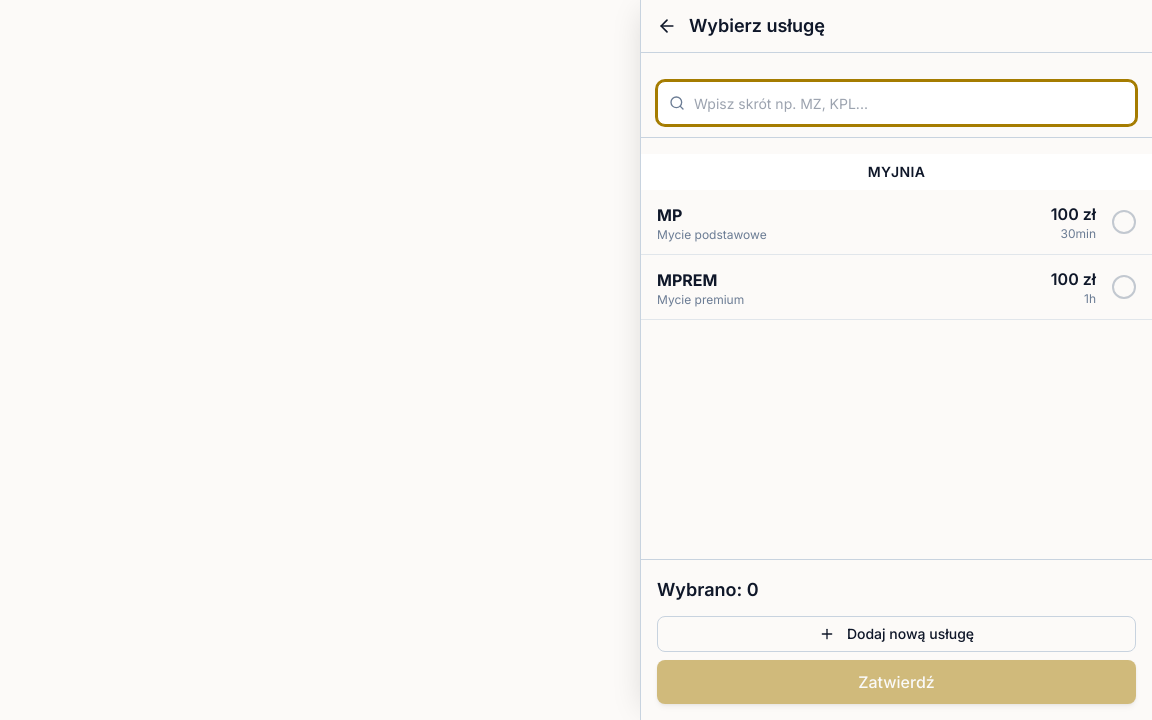
Test: ServiceSelectionDrawer › Search filtering in category list › filters services in category list by full search phrase
Check: the text "Mycie podstawowe" is shown, box [657,226,767,242]
Type "premium" into the search field with placeholder "Wpisz skrót np. MZ, KPL..." at x=896, y=103, box [657,81,1136,125]
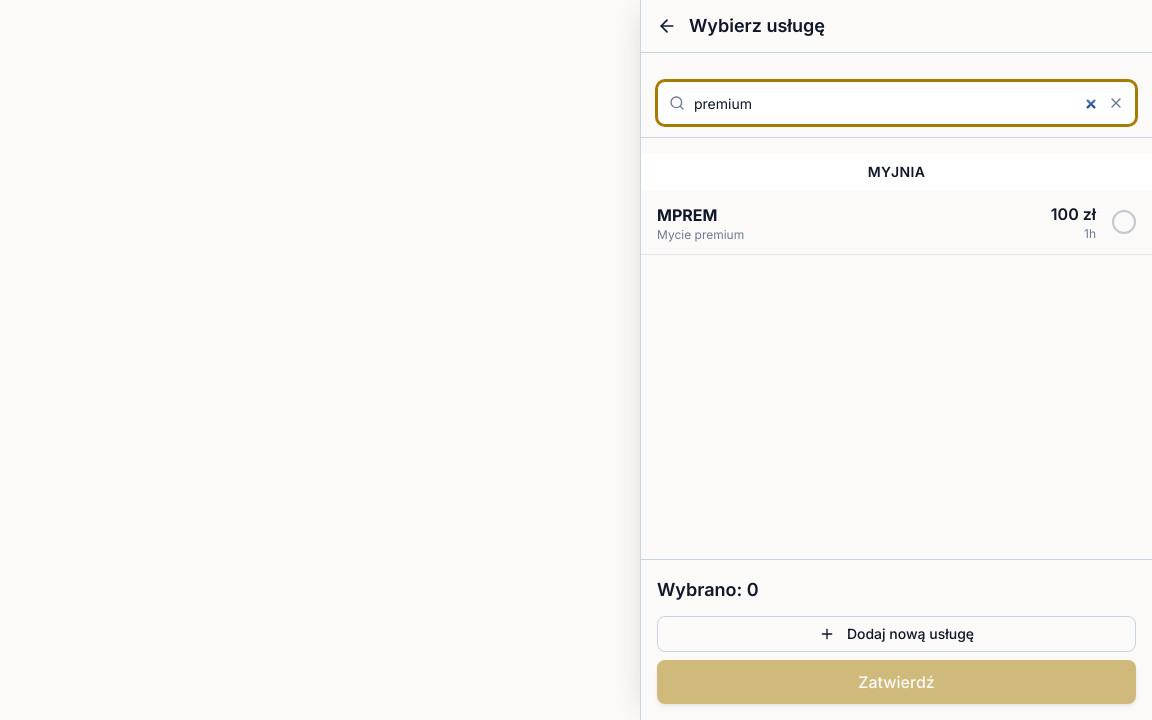
Check: the text "Mycie premium" is shown, box [657,226,744,242]
Check: the button "Mycie podstawowe" is gone
